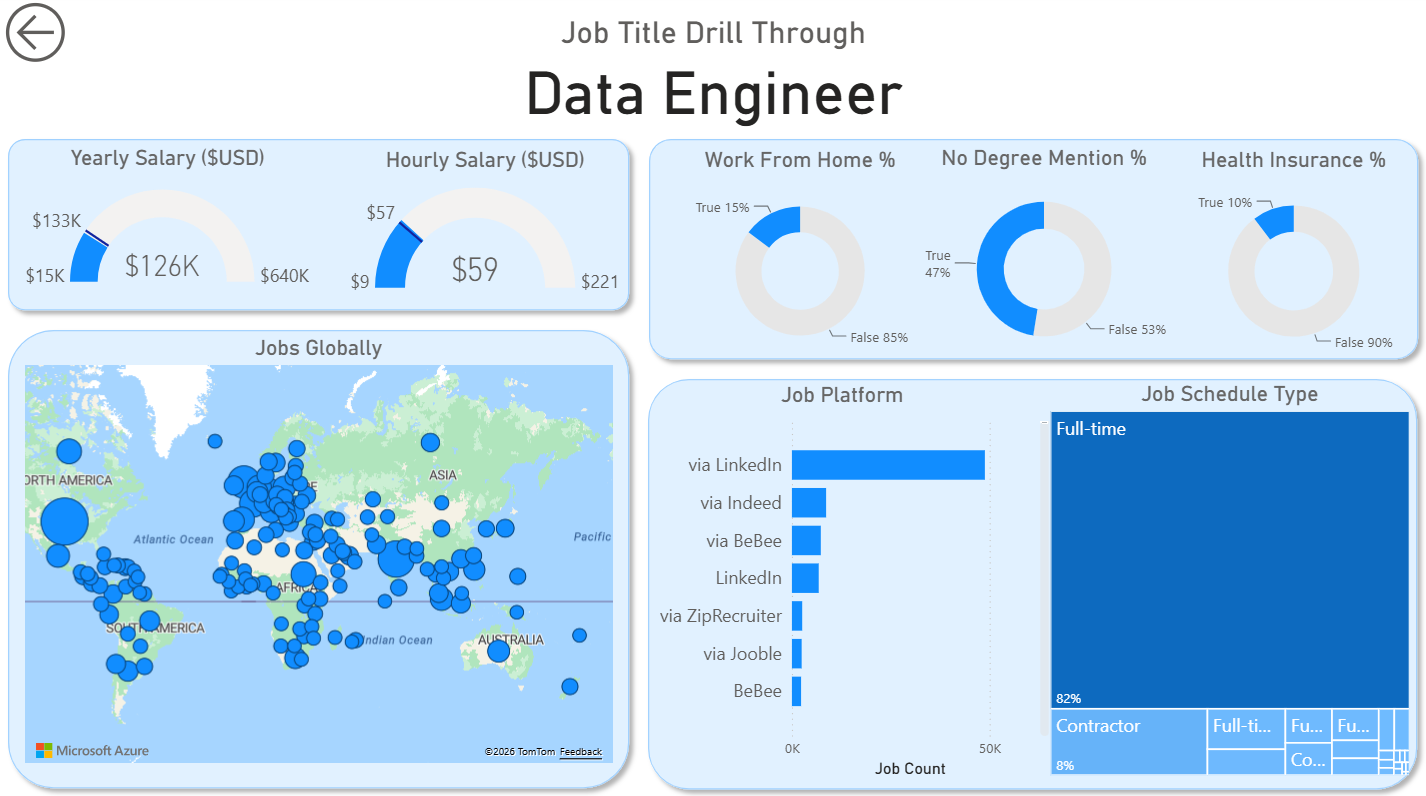

What the dashboard file says about the page in this screenshot:
{"tool":"powerbi","page":{"name":"Job Title Drill Through","canvas":[1280,720],"ordinal":1},"visuals":[{"type":"group","id":"g1","title":"Background","box":[0,120.4,1281,600.7],"z":0},{"type":"shape","box":[0,291.7,574.2,428.4],"z":0,"group":"g1"},{"type":"shape","box":[0,120.4,574.2,171.3],"z":1000,"group":"g1"},{"type":"donutChart","title":"Work From Home %","fields":{"Category":["job_postings_flat.job_work_from_home"],"Y":["CountNonNull(job_postings_flat.job_work_from_home)"]},"box":[615,135.9,206.2,200.2],"z":1000},{"type":"cardVisual","fields":{"Data":["Min(job_postings_flat.job_title_short)"]},"box":[245.6,0,791.8,135.4],"z":2000},{"type":"shape","box":[574.2,120.4,706.8,215.2],"z":2000,"group":"g1"},{"type":"gauge","title":"Yearly Salary ($USD)","fields":{"MaxValue":["Max(job_postings_flat.salary_year_avg)"],"MinValue":["Min(job_postings_flat.salary_year_avg)"],"TargetValue":["Avg(job_postings_flat.salary_year_avg)1"],"Y":["Median(job_postings_flat.salary_year_avg)"]},"box":[14.3,134.7,274.1,145.4],"z":3000},{"type":"shape","box":[573.2,335.6,706.8,385.5],"z":3000,"group":"g1"},{"type":"gauge","title":"Hourly Salary ($USD)","fields":{"MaxValue":["Max(job_postings_flat.salary_hour_avg)2"],"MinValue":["Min(job_postings_flat.salary_hour_avg)1"],"TargetValue":["Avg(job_postings_flat.salary_hour_avg)3"],"Y":["Median(job_postings_flat.salary_hour_avg)"]},"box":[305.1,135.9,261,145.4],"z":4000},{"type":"actionButton","box":[0,0,78.9,67],"z":5000},{"type":"donutChart","title":"No Degree Mention %","fields":{"Category":["job_postings_flat.job_no_degree_mention"],"Y":["CountNonNull(job_postings_flat.job_no_degree_mention)"]},"box":[821.2,134.7,231.2,200.2],"z":6000},{"type":"donutChart","title":"Health Insurance %","fields":{"Category":["job_postings_flat.job_health_insurance"],"Y":["CountNonNull(job_postings_flat.job_health_insurance)"]},"box":[1053.6,135.9,214.5,200.2],"z":7000},{"type":"barChart","title":"Job Platform","fields":{"Category":["job_postings_flat.job_via"],"Y":["CountNonNull(job_postings_flat.job_via)"]},"box":[566.1,346.8,380.4,359],"z":8000},{"type":"treemap","title":"Job Schedule Type","fields":{"Group":["job_postings_flat.job_schedule_type"],"Values":["CountNonNull(job_postings_flat.job_schedule_type)"]},"box":[937.3,345.8,331.5,358],"z":9000},{"type":"azureMap","title":"Jobs Globally","fields":{"Category":["job_postings_flat.job_country"],"Size":["CountNonNull(job_postings_flat.job_title_short)"]},"box":[18.5,304.4,536.9,388.1],"z":10000}]}

Visuals, with their boxes in screenshot pixels (x1, y1, x2, y2), scaled from the page's 1280x720 canvas onto the 1426x796 screenshot:
"Background" group: 0,133,1425,795
shape: 0,322,640,795
shape: 0,133,640,322
"Work From Home %" donutChart: 685,150,915,372
cardVisual - Min(job_postings_flat.job_title_short): 274,0,1156,150
shape: 640,133,1425,371
"Yearly Salary ($USD)" gauge: 16,149,321,310
shape: 639,371,1425,795
"Hourly Salary ($USD)" gauge: 340,150,631,311
actionButton: 0,0,88,74
"No Degree Mention %" donutChart: 915,149,1172,370
"Health Insurance %" donutChart: 1174,150,1413,372
"Job Platform" barChart: 631,383,1054,780
"Job Schedule Type" treemap: 1044,382,1414,778
"Jobs Globally" azureMap: 21,337,619,766
